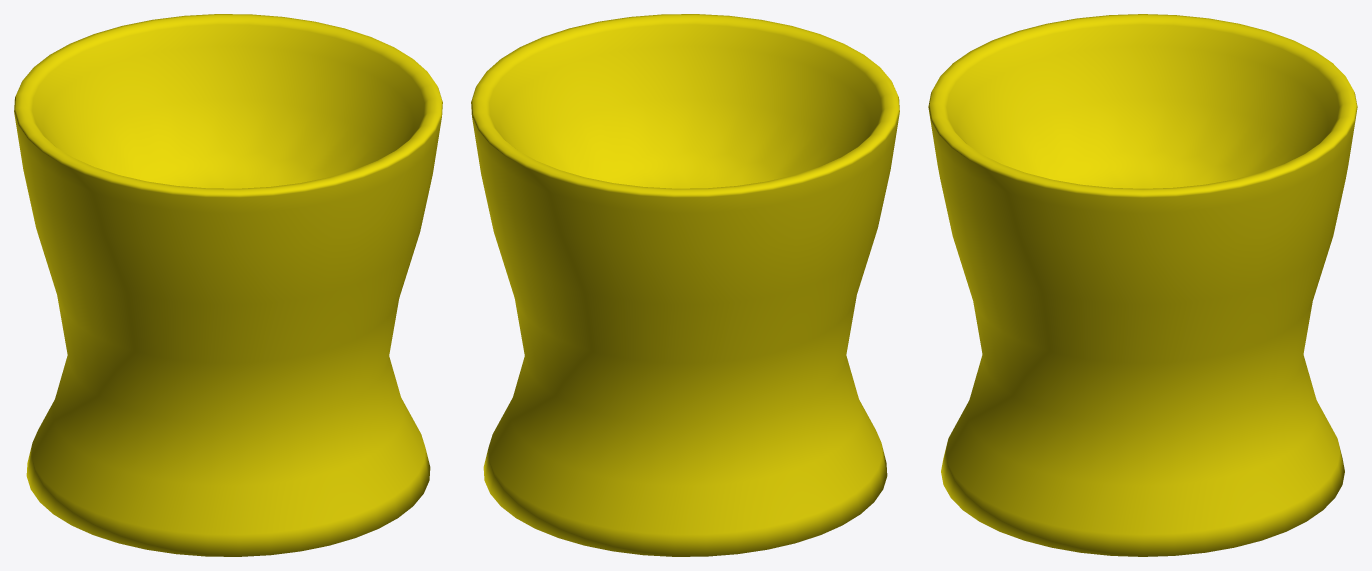
The model's file is Egg_Cup.fbx.
3 views of the same model, side by side, from view 1: azimuth 30°, elevation 25°; view 2: azimuth 150°, elevation 25°; view 3: azimuth 270°, elevation 25° (orthographic).
Visible parts, largest first — view 1: Egg_Cup; view 2: Egg_Cup; view 3: Egg_Cup.
Part boxes in pixels (left/top/right/bottom): Egg_Cup: left=14, top=14, right=442, bottom=556; Egg_Cup: left=471, top=14, right=899, bottom=556; Egg_Cup: left=928, top=14, right=1357, bottom=556.
Bounding box in the file's own units: 34.01 × 33.13 × 34.01.
